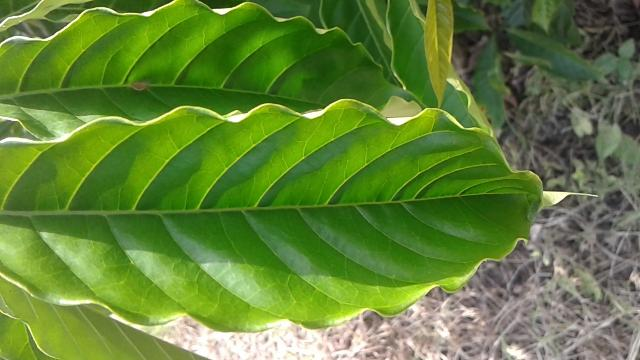healthy: (0, 96, 605, 334)
